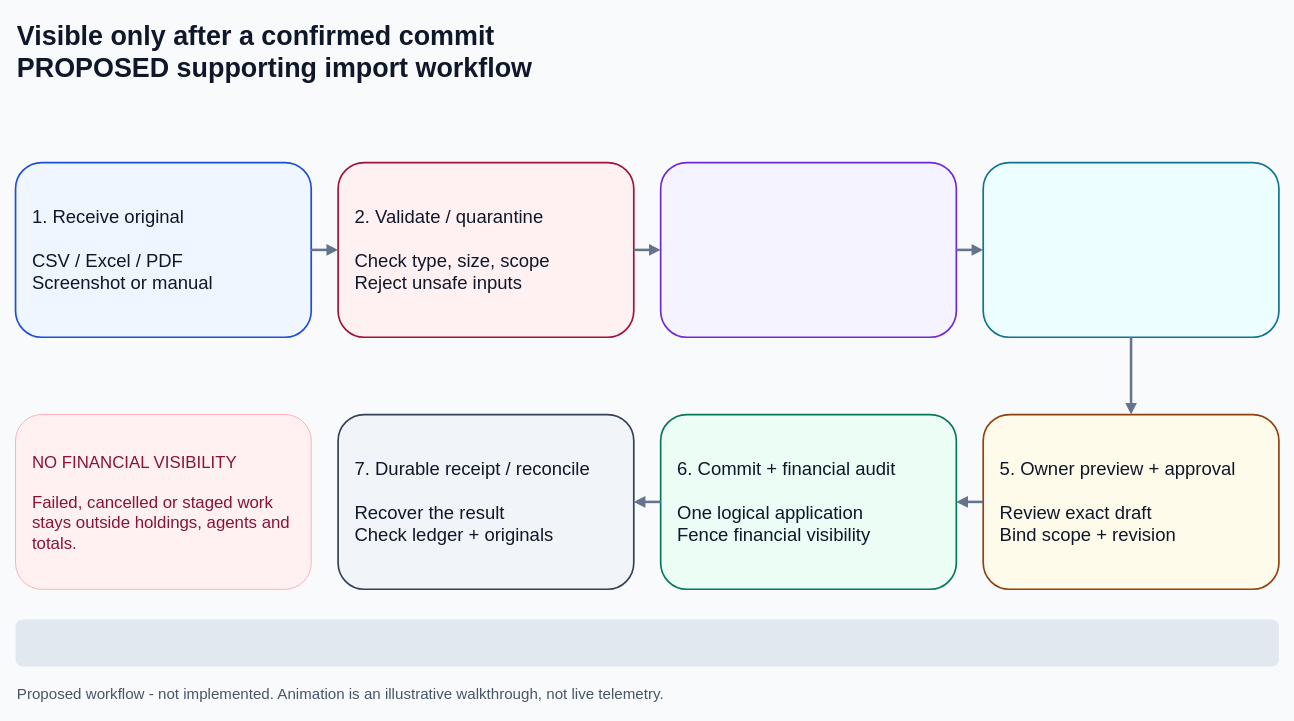
This 1294x721 diagram has some shape labels left out. Each missing label, with the centre of its shape:
"3. Extract candidates Capture field + source Treat text as untrusted" goes at pixel 808 249.
"4. Match / normalise Resolve listing + units Review uncertain values" goes at pixel 1130 249.
"Trace / source / status / cost evidence at every stage" goes at pixel 646 642.
